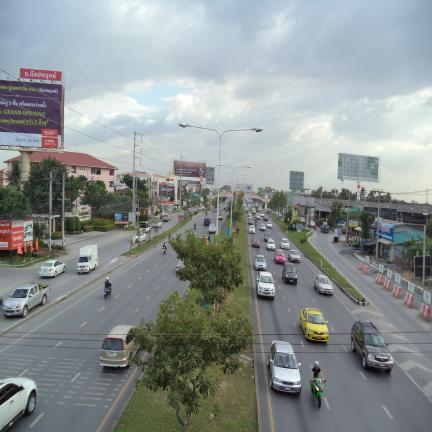car: (351, 321, 393, 372), (267, 341, 301, 393), (100, 325, 139, 367), (256, 272, 275, 300), (39, 260, 65, 277), (314, 275, 333, 295), (282, 263, 297, 284), (254, 255, 266, 270), (288, 250, 300, 262), (280, 238, 290, 250), (320, 222, 329, 233), (266, 239, 275, 250), (252, 237, 260, 248), (264, 233, 272, 242), (249, 225, 255, 233), (260, 224, 266, 231), (266, 221, 272, 228), (248, 217, 253, 224), (247, 212, 252, 218), (263, 215, 268, 221), (260, 213, 265, 217)
human: (105, 277, 112, 294)
motorbike: (310, 378, 326, 408), (104, 281, 112, 299), (163, 248, 166, 254), (169, 237, 171, 243), (194, 225, 196, 230), (314, 225, 316, 230), (205, 212, 207, 216)
pickup: (2, 284, 50, 317), (152, 220, 162, 229), (162, 214, 171, 221), (204, 218, 211, 226), (308, 220, 315, 228), (256, 213, 260, 220), (212, 208, 217, 212)
taxi: (300, 308, 328, 342), (274, 250, 286, 263)
truck: (77, 245, 98, 274), (140, 221, 151, 233), (320, 223, 329, 233), (208, 224, 216, 234), (218, 209, 223, 220)
van: (134, 229, 146, 242), (248, 217, 253, 224)
